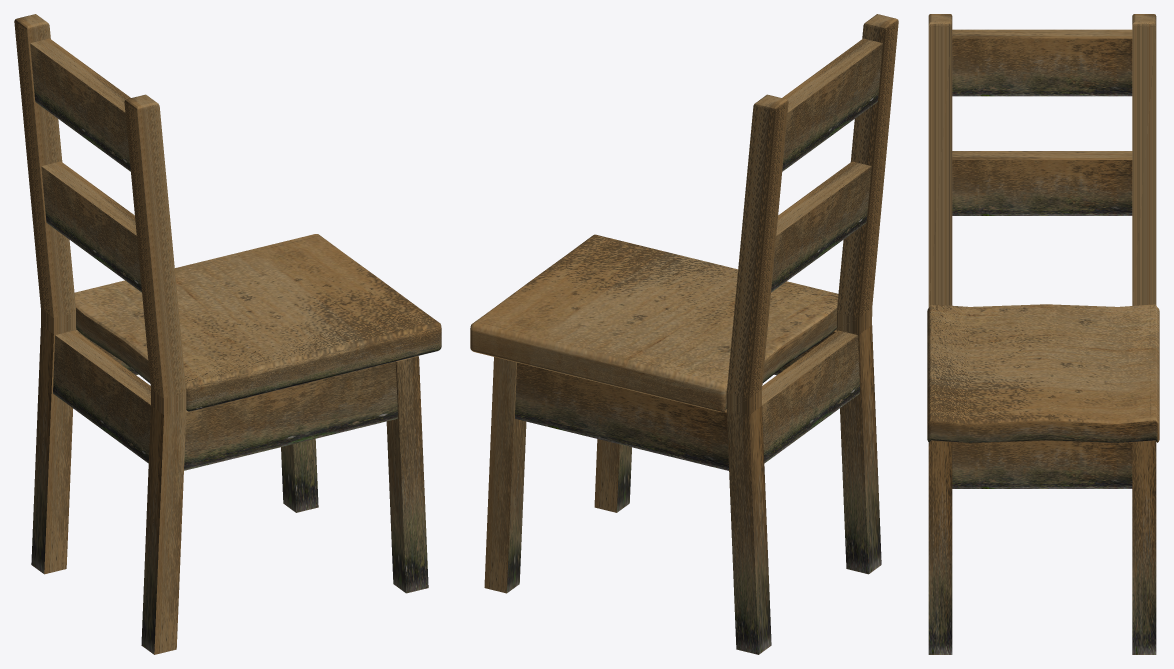
File: WoodenChair.fbx
3 views of the same model, side by side, from view 1: azimuth 30°, elevation 25°; view 2: azimuth 150°, elevation 25°; view 3: azimuth 270°, elevation 25° (orthographic). The views are drawn at different scales.
Visible parts, largest first — view 1: Chair; view 2: Chair; view 3: Chair.
Part boxes in pixels (left/top/right/bottom): Chair: left=14, top=14, right=441, bottom=654; Chair: left=470, top=14, right=898, bottom=654; Chair: left=927, top=14, right=1159, bottom=654.
Bounding box in the file's own units: 25.08 × 42.88 × 17.69.
